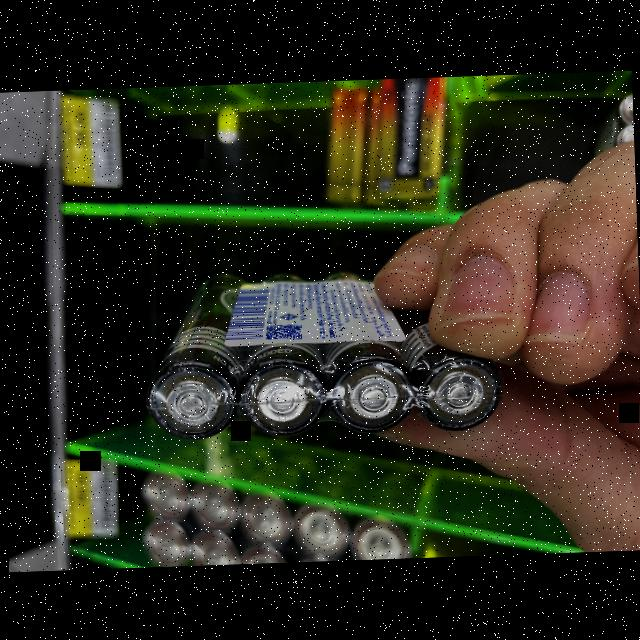battery: (144, 272, 253, 443), (370, 290, 505, 425), (324, 266, 414, 440), (242, 275, 328, 443)
